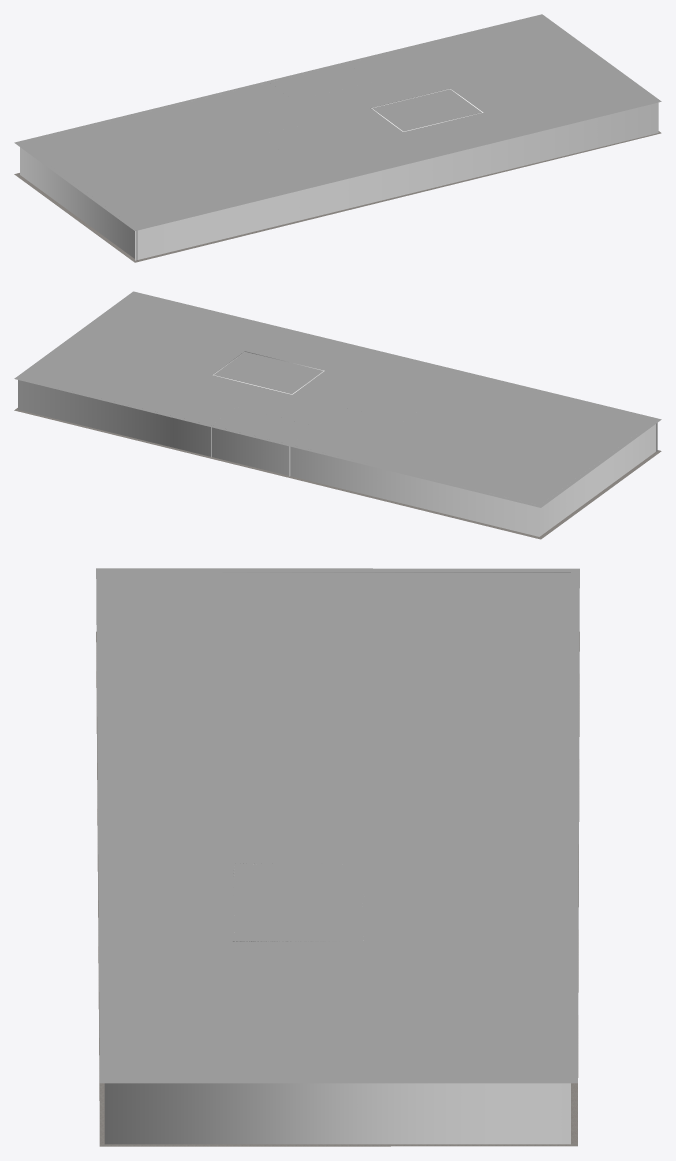
3 renders of one model, top to bottom at view 1: azimuth 30°, elevation 25°; view 2: azimuth 150°, elevation 25°; view 3: azimuth 270°, elevation 25°, orthographic. The views are drawn at different scales.
Visible parts, largest first — view 1: ceiling, Wall, floor; view 2: ceiling, Wall, floor; view 3: ceiling, Wall, floor.
Boxes of the visible parts, x1,y1,x2,y2 form: ceiling: [14, 14, 661, 230]; Wall: [20, 102, 658, 260]; floor: [14, 131, 661, 262]; ceiling: [14, 291, 661, 507]; Wall: [18, 380, 657, 536]; floor: [14, 408, 661, 539]; ceiling: [96, 568, 579, 1083]; Wall: [104, 572, 570, 1144]; floor: [96, 631, 579, 1146].
Bounding box in the file's own units: 62.97 × 3.66 × 25.
14 materials, 1 textured.
